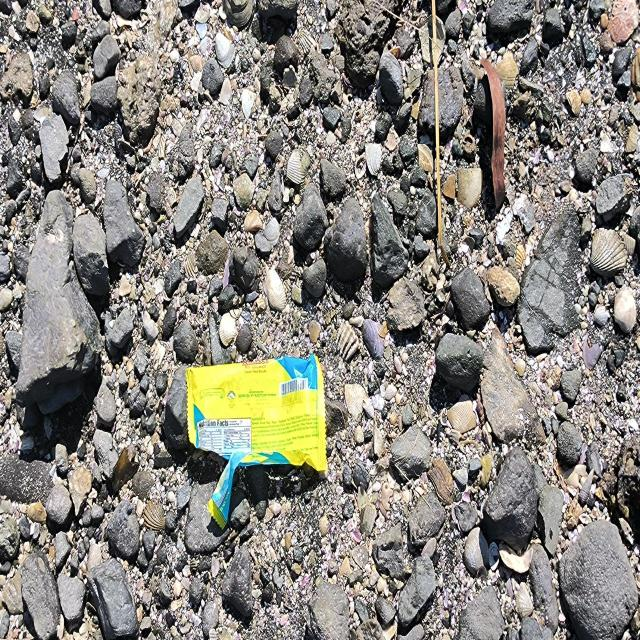plastic_waste: (186, 354, 329, 532)
